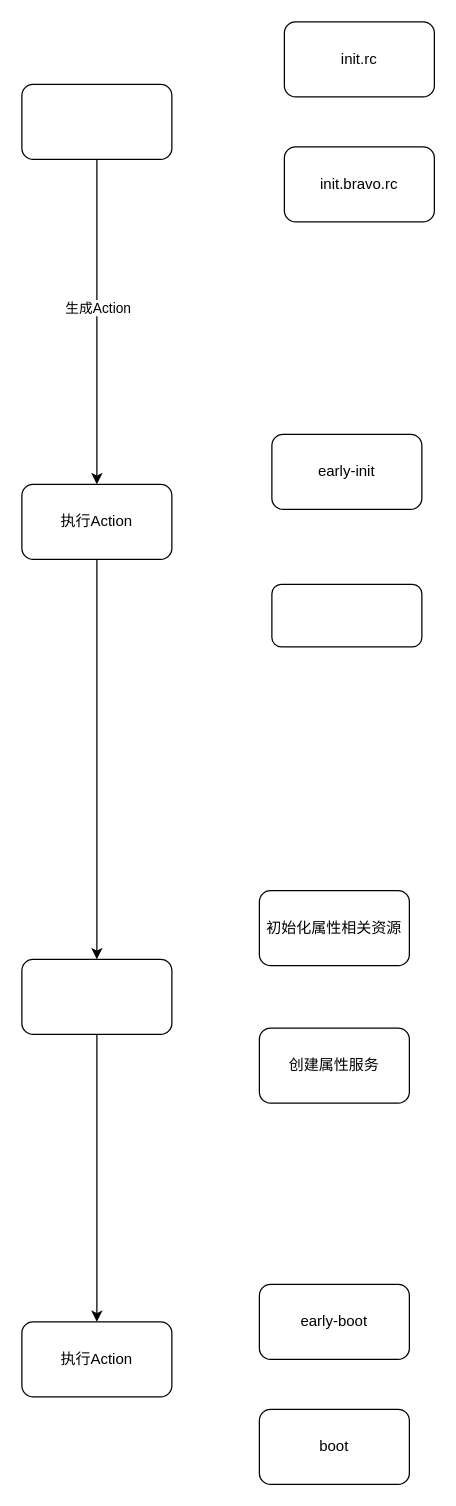
The diagram is 456 pixels wide and 1506 high, and some of its shapes have lost their labels. The shapes that lost their labels are listed below. From the top down, each one's centre as x and y in pixels, then its label:
the point at 96,121: 解析配置文件
the point at 346,615: init
the point at 96,996: 属性服务
